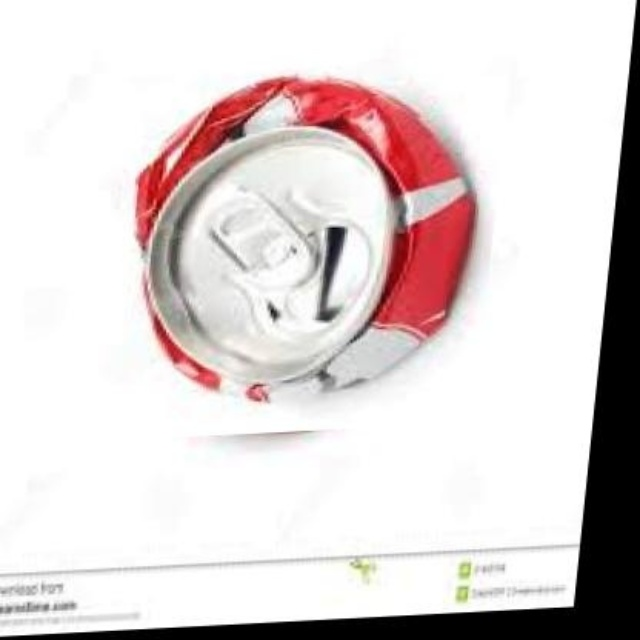trash: (135, 77, 474, 400)
